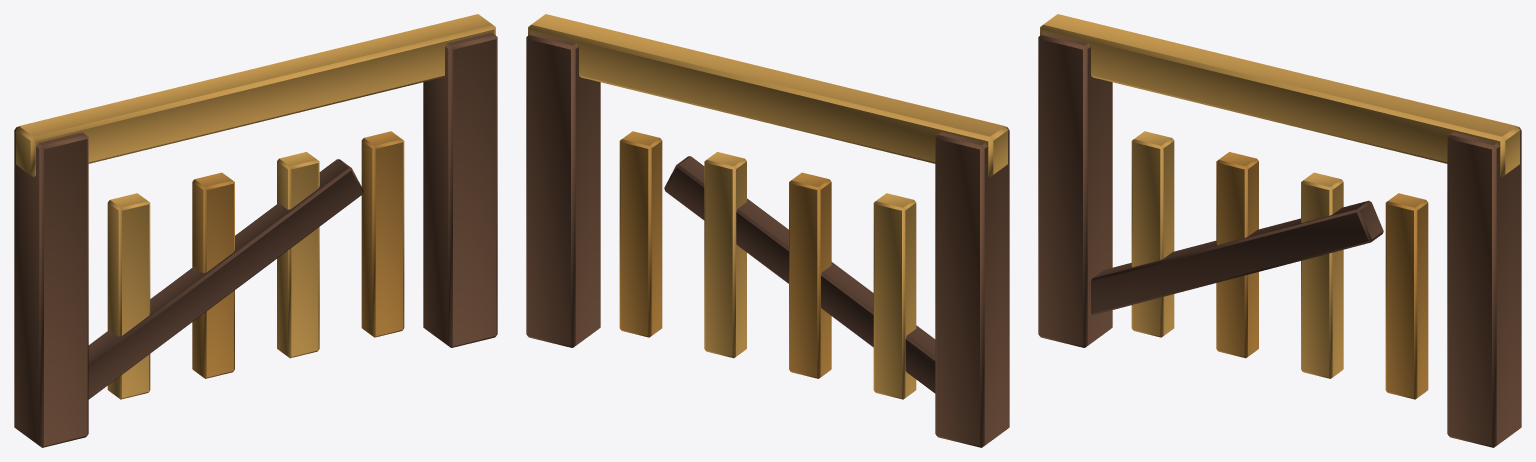
Rendered from prop_gate.glb.
The picture shows the model from 3 angles, left to right: view 1: azimuth 30°, elevation 25°; view 2: azimuth 150°, elevation 25°; view 3: azimuth 330°, elevation 25°; orthographic projection.
Visible parts, largest first — view 1: gate_top, gate_post1, gate_post2, gate_brace, gate_picket_3, gate_picket_0, gate_picket_2, gate_picket_1; view 2: gate_top, gate_post1, gate_post2, gate_brace, gate_picket_3, gate_picket_0, gate_picket_2, gate_picket_1; view 3: gate_top, gate_post2, gate_post1, gate_brace, gate_picket_3, gate_picket_0, gate_picket_1, gate_picket_2.
Boxes of the visible parts, <box> form: gate_top: <box>16,14,495,176</box>; gate_post1: <box>14,126,88,447</box>; gate_post2: <box>423,32,497,347</box>; gate_brace: <box>88,159,363,399</box>; gate_picket_3: <box>361,131,404,337</box>; gate_picket_0: <box>107,193,150,399</box>; gate_picket_2: <box>277,152,319,358</box>; gate_picket_1: <box>192,172,234,378</box>; gate_top: <box>528,14,1007,176</box>; gate_post1: <box>935,126,1009,447</box>; gate_post2: <box>526,32,600,347</box>; gate_brace: <box>664,156,935,393</box>; gate_picket_3: <box>619,131,662,337</box>; gate_picket_0: <box>873,193,916,399</box>; gate_picket_2: <box>704,152,746,358</box>; gate_picket_1: <box>789,172,831,378</box>; gate_top: <box>1040,14,1519,176</box>; gate_post2: <box>1447,126,1521,447</box>; gate_post1: <box>1038,32,1112,347</box>; gate_brace: <box>1091,200,1383,315</box>; gate_picket_3: <box>1385,193,1428,399</box>; gate_picket_0: <box>1131,131,1174,337</box>; gate_picket_1: <box>1216,152,1258,358</box>; gate_picket_2: <box>1301,172,1343,378</box>.
Size of the model in its own units: 1.32 by 0.835 by 0.14.
